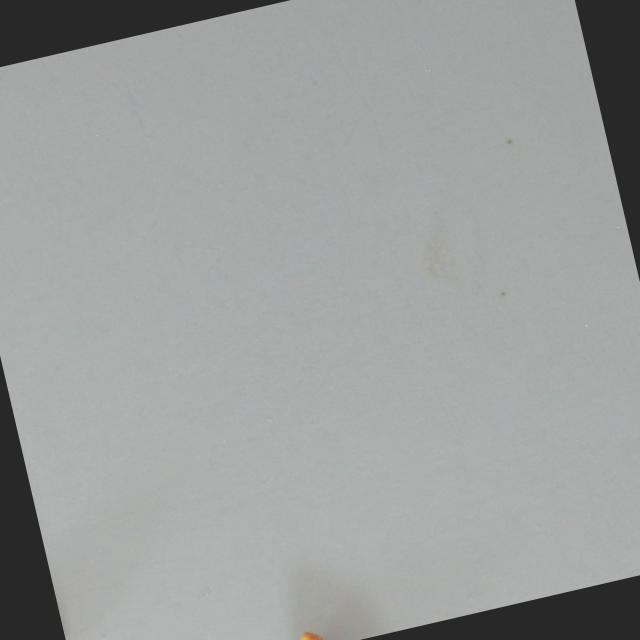dañado: (284, 613, 381, 640)
